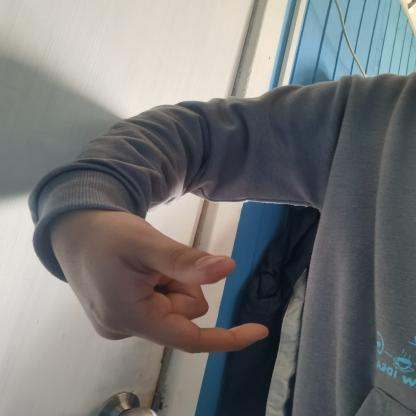G: (42, 186, 294, 382)
